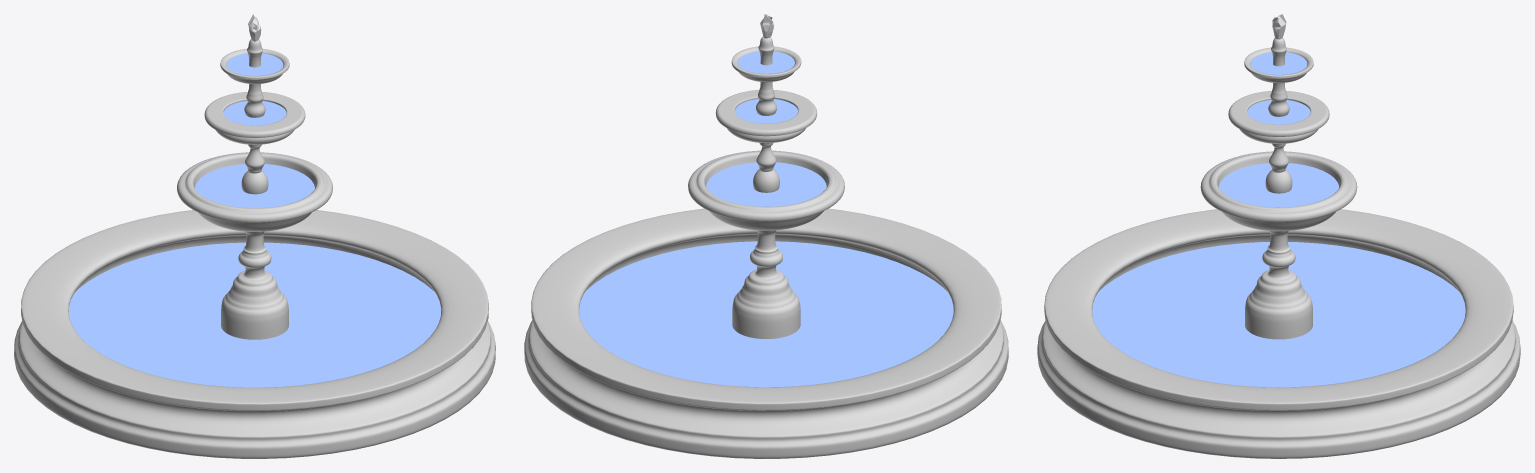
The model's file is fontein.glb.
The picture shows the model from 3 angles, left to right: view 1: azimuth 30°, elevation 25°; view 2: azimuth 150°, elevation 25°; view 3: azimuth 270°, elevation 25°; orthographic projection.
Visible parts, largest first — view 1: fountain; view 2: fountain; view 3: fountain.
Part boxes in pixels (box(x1,y1,x2,y2)): fountain: box(14, 14, 495, 458); fountain: box(524, 14, 1008, 458); fountain: box(1037, 14, 1520, 458).
Size of the model in its own units: 2 by 1.58 by 2.
